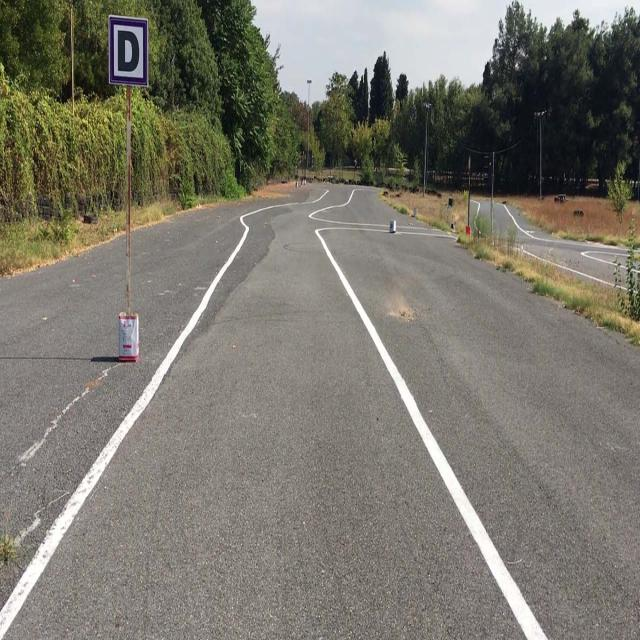durak: (108, 17, 148, 88)
